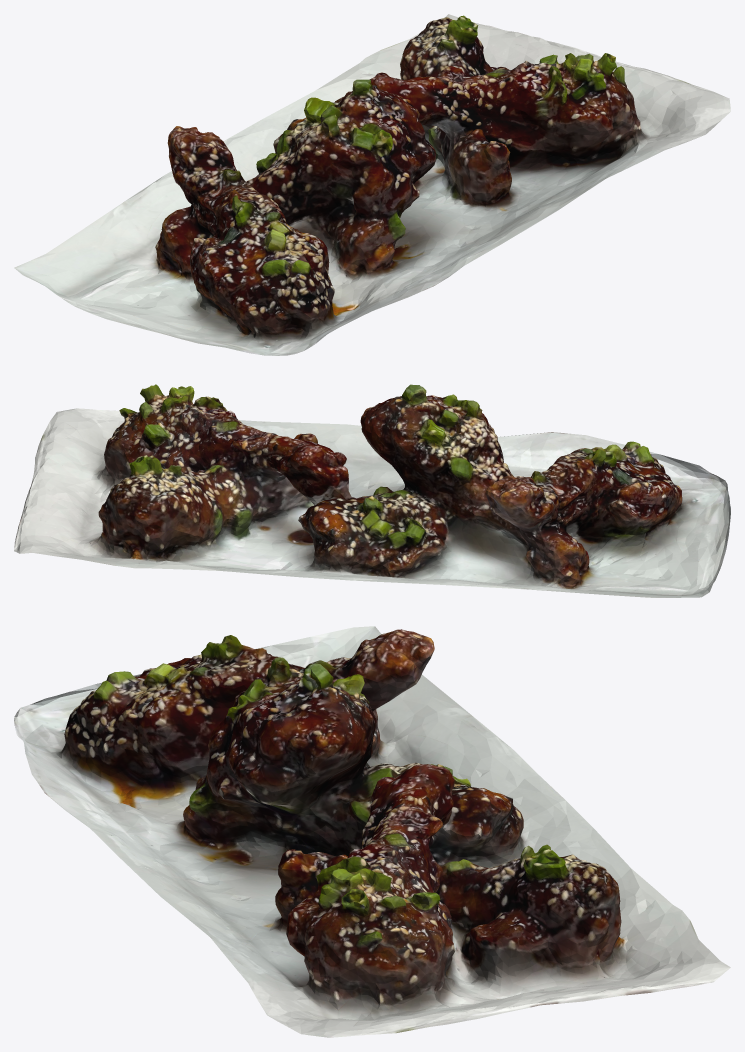
The model's file is wings.glb.
3 renders of one model, top to bottom at view 1: azimuth 30°, elevation 25°; view 2: azimuth 150°, elevation 25°; view 3: azimuth 270°, elevation 25°, orthographic. The views are drawn at different scales.
Size of the model in its own units: 0.3235 by 0.0688 by 0.2296.
1 material, 1 textured.
